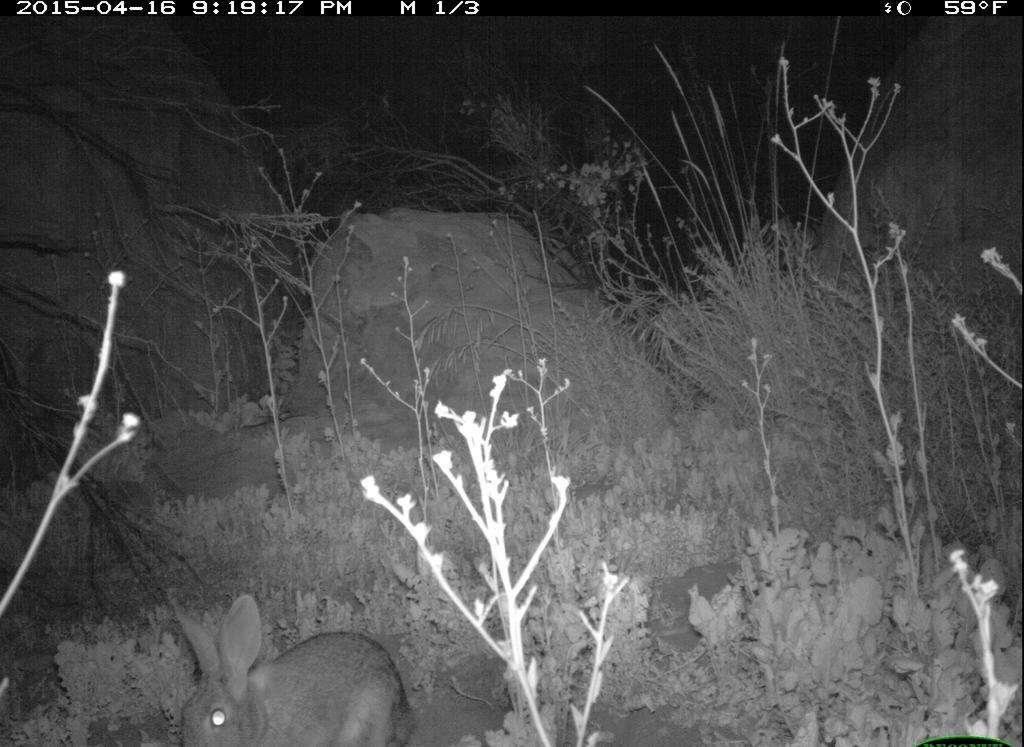rabbit: (163, 580, 433, 747)
